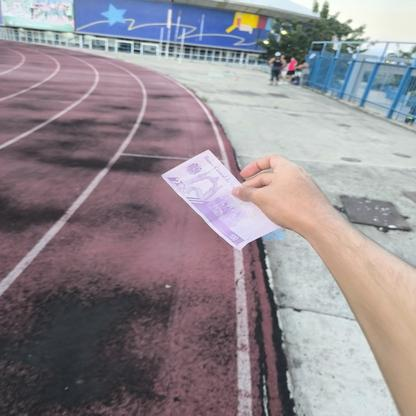one_hundred-back-vef: (160, 148, 282, 252)
